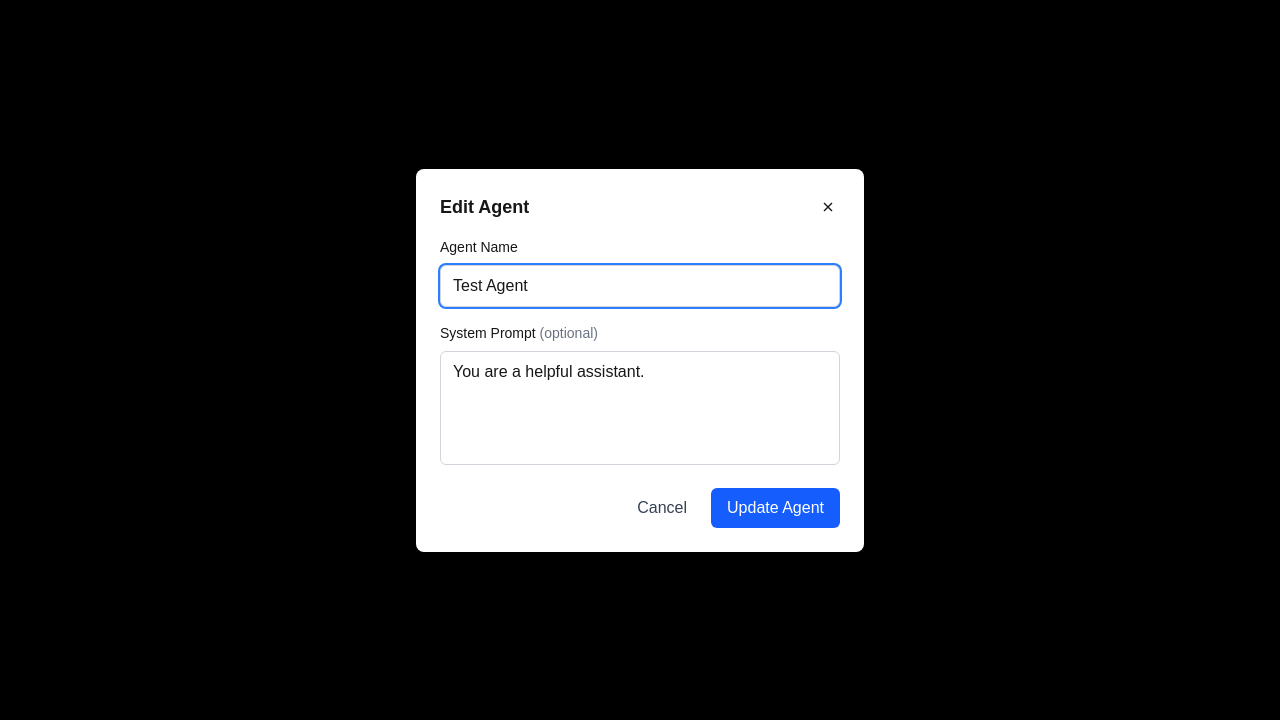
EditAgentModal › Form Reset › resets form to original values when cancel is clicked
The image size is (1280, 720).
// Modify values
Replace the text in the field labelled "Agent Name" with "Modified Name" at {"x": 640, "y": 286}, box [440, 264, 840, 306]
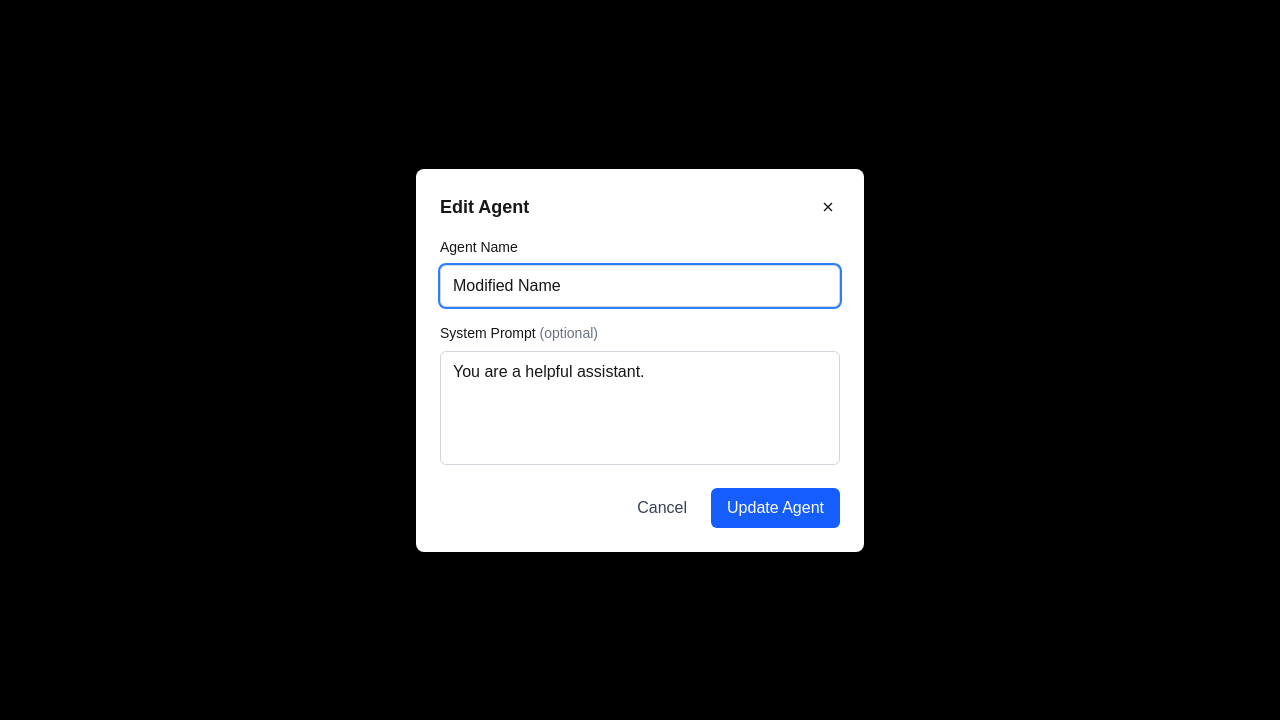
Replace the text in the text box labelled "System Prompt (optional)" with "Modified prompt" at {"x": 640, "y": 408}, box [440, 350, 840, 464]
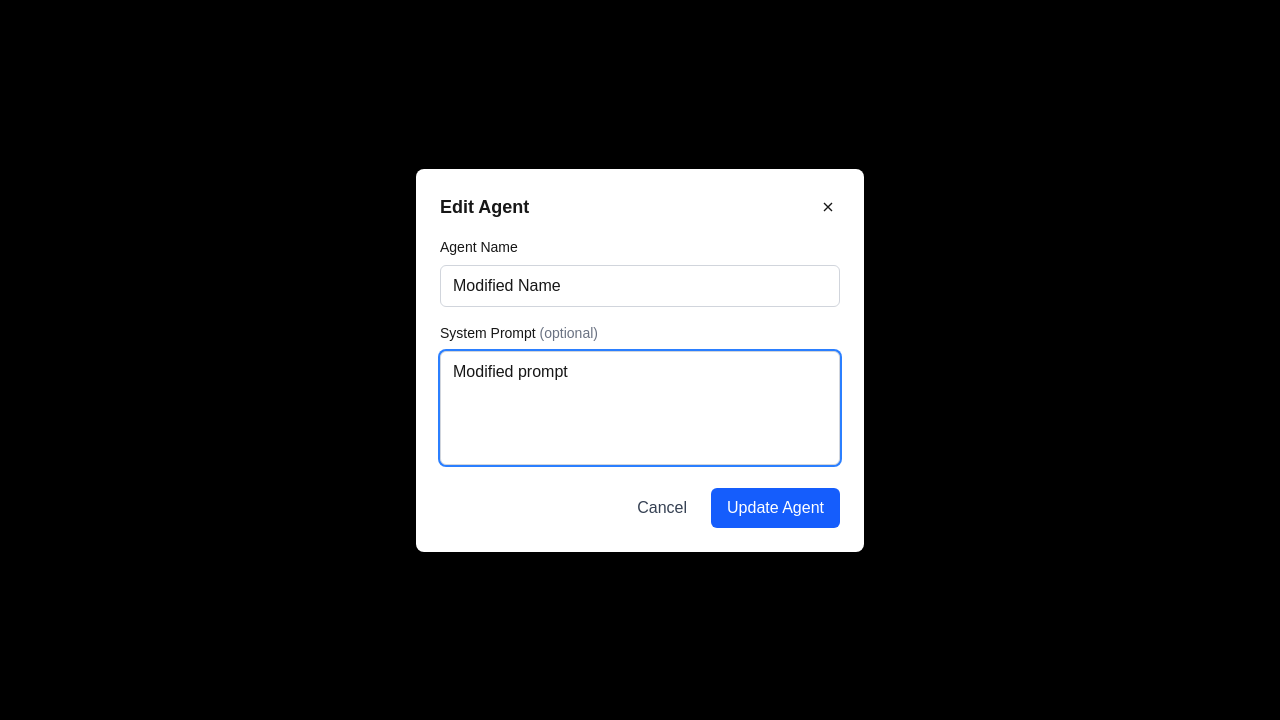
// Cancel should reset
Click the button "Cancel" at {"x": 662, "y": 508}, box [621, 488, 703, 528]
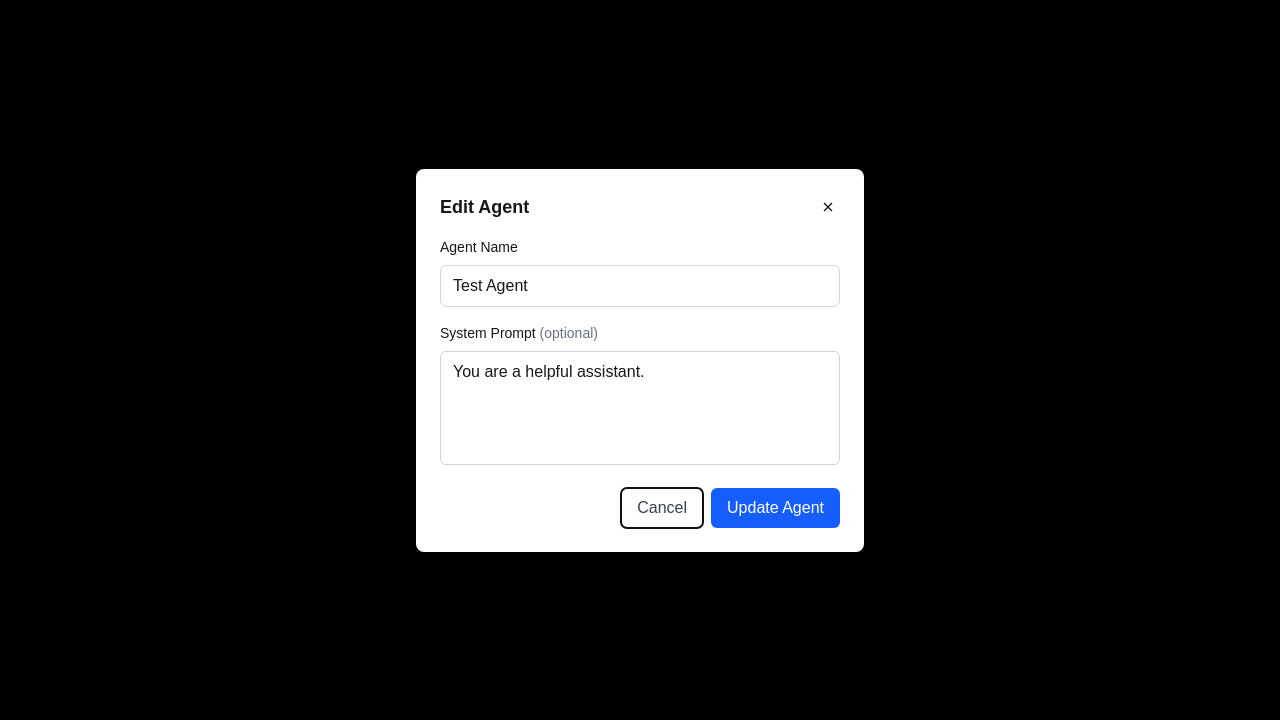
expect the field labelled "Agent Name" holds "Test Agent": met, box [440, 264, 840, 306]
expect the text box labelled "System Prompt (optional)" holds "You are a helpful assistant.": met, box [440, 350, 840, 464]
